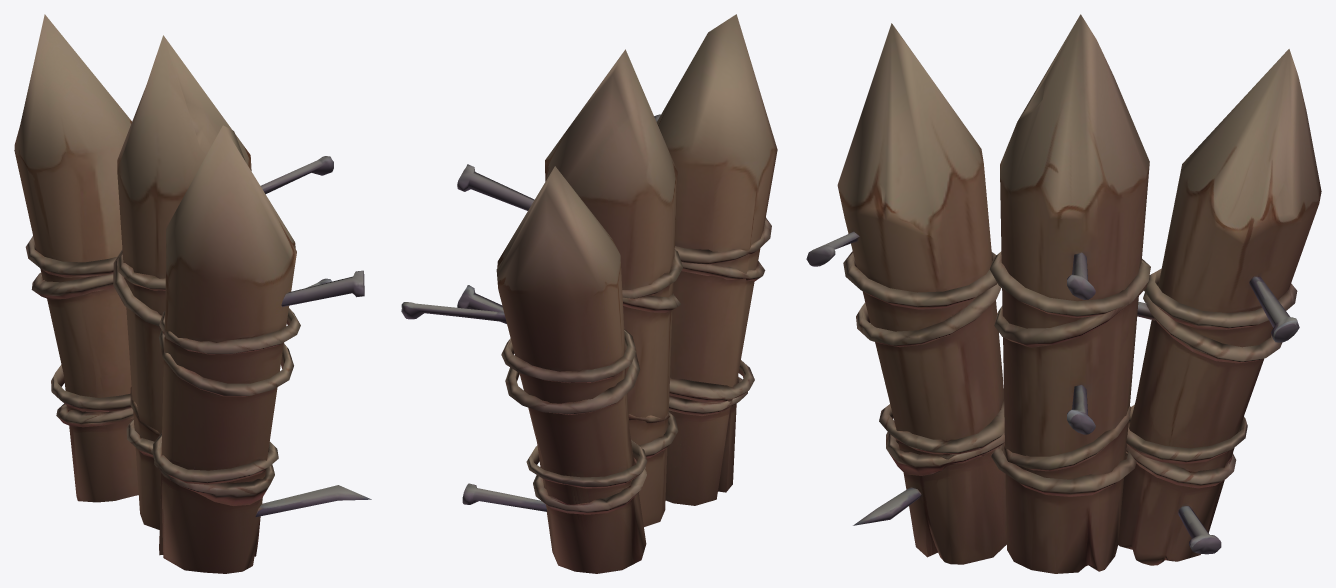
The model's file is palisade_tripo.glb.
3 renders of one model, left to right at view 1: azimuth 30°, elevation 25°; view 2: azimuth 150°, elevation 25°; view 3: azimuth 270°, elevation 25°, orthographic. The views are drawn at different scales.
Parts seen in each view (by area): view 1: tripo_node_c414a6be-ae21-4559-8756-38475600e66f; view 2: tripo_node_c414a6be-ae21-4559-8756-38475600e66f; view 3: tripo_node_c414a6be-ae21-4559-8756-38475600e66f.
Boxes of the visible parts, x1,y1,x2,y2 form: tripo_node_c414a6be-ae21-4559-8756-38475600e66f: (14,14,371,573); tripo_node_c414a6be-ae21-4559-8756-38475600e66f: (401,14,777,573); tripo_node_c414a6be-ae21-4559-8756-38475600e66f: (806,14,1321,573).
Bounding box in the file's own units: 0.498 × 0.998 × 0.873.
1 material, 1 textured.
